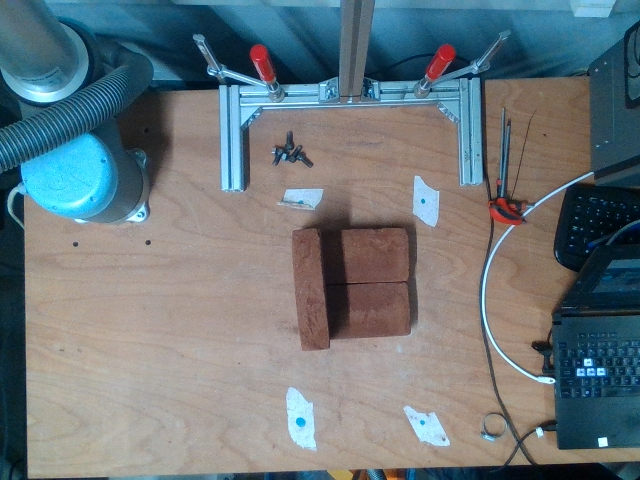brick-side: (290, 228, 330, 346)
